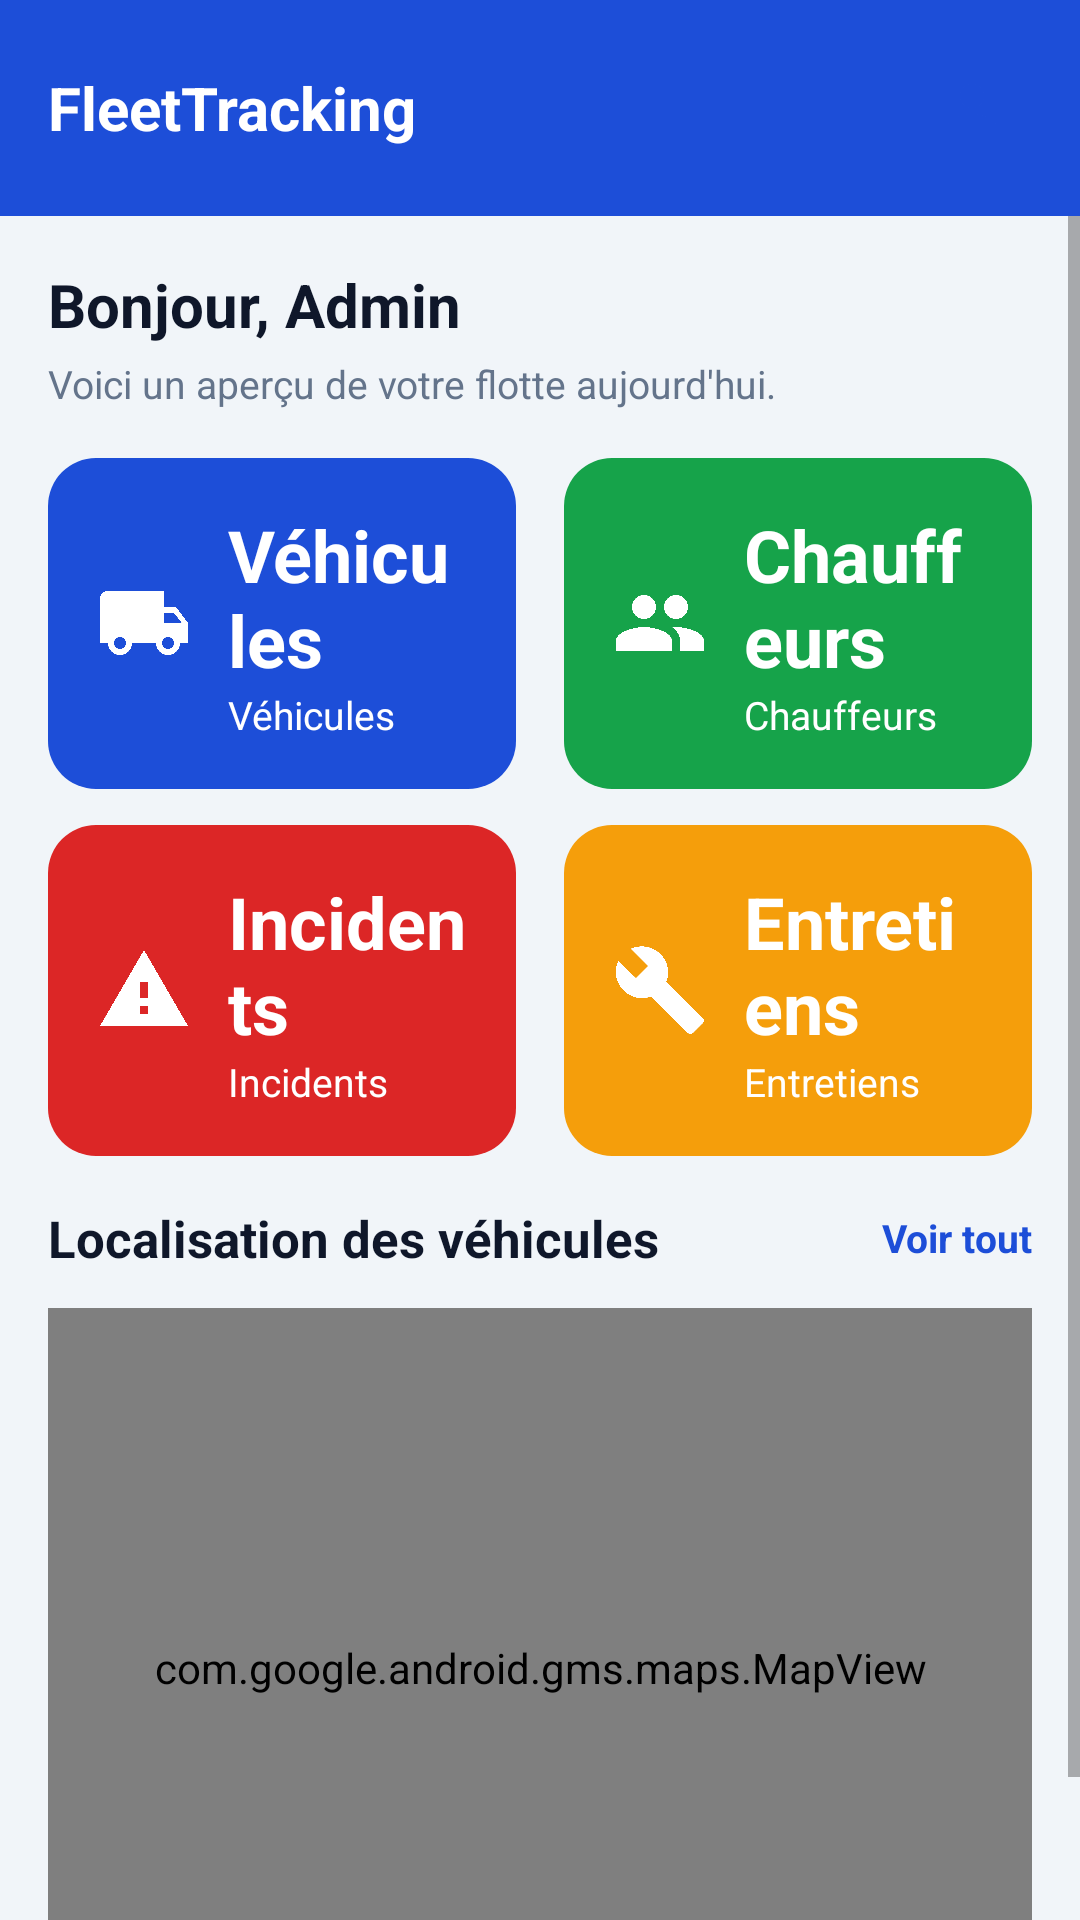

Icon bounding boxes for this 1080px x 1920px phone screenshot, format BBox(x1, y1, x2, y2):
people: BBox(616, 595, 704, 651)
truck: BBox(100, 591, 188, 655)
warning: BBox(100, 951, 188, 1026)
wrench: BBox(616, 946, 704, 1034)
